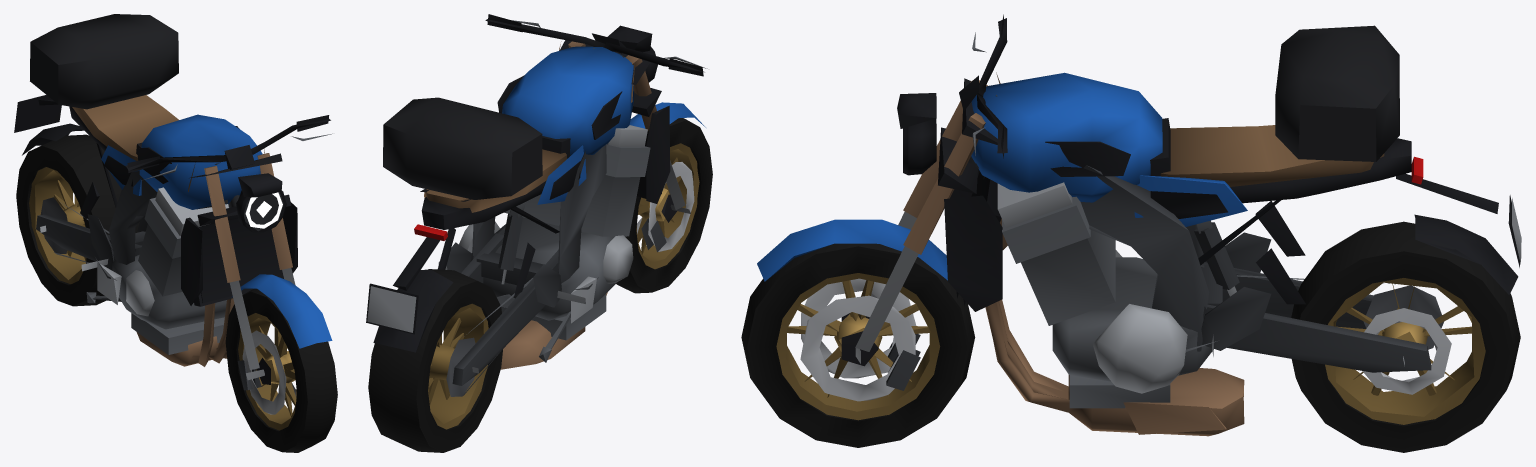
Rendered from bike08_xsr900.glb.
3 views of the same model, side by side, from view 1: azimuth 30°, elevation 25°; view 2: azimuth 150°, elevation 25°; view 3: azimuth 270°, elevation 25° (orthographic). The views are drawn at different scales.
Visible parts, largest first — view 1: body, wheel_front, luggage, wheel_rear; view 2: body, wheel_rear, luggage, wheel_front, brake_light; view 3: body, wheel_front, wheel_rear, luggage.
Boxes of the visible parts, <box> form: body: <box>14,95,332,390</box>; wheel_front: <box>225,288,337,452</box>; luggage: <box>30,14,178,109</box>; wheel_rear: <box>16,134,139,306</box>; body: <box>366,14,707,396</box>; wheel_rear: <box>368,269,502,452</box>; luggage: <box>383,97,542,199</box>; wheel_front: <box>616,118,712,293</box>; brake_light: <box>414,224,447,240</box>; body: <box>757,14,1521,436</box>; wheel_front: <box>741,243,975,447</box>; wheel_rear: <box>1291,221,1520,452</box>; luggage: <box>1275,25,1399,161</box>.
Bounding box in the file's own units: 0.81 × 1.11 × 2.
